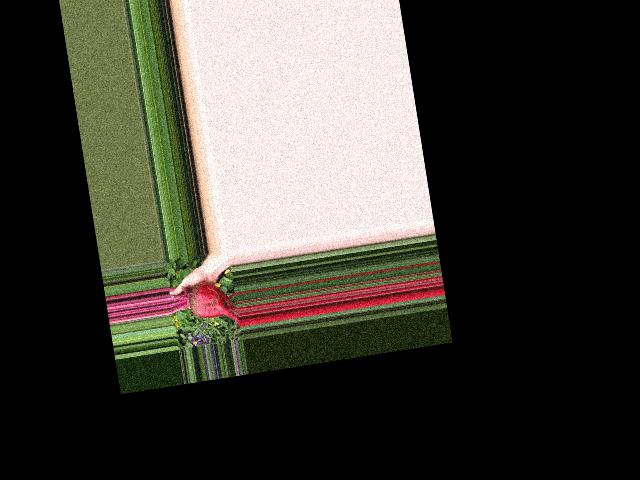beet: (167, 277, 241, 336)
